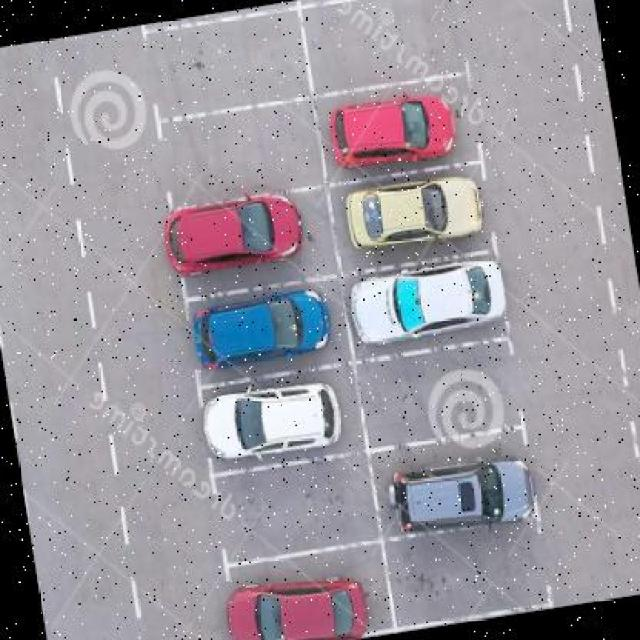Car: (156, 187, 332, 290), (344, 253, 518, 352), (197, 370, 360, 469), (383, 438, 544, 538), (338, 169, 495, 270), (218, 548, 385, 640), (186, 283, 341, 381), (324, 80, 472, 174)
Empty: (144, 13, 310, 121), (166, 110, 327, 210), (364, 346, 527, 444), (392, 521, 544, 621), (224, 458, 375, 553), (307, 1, 466, 89)
